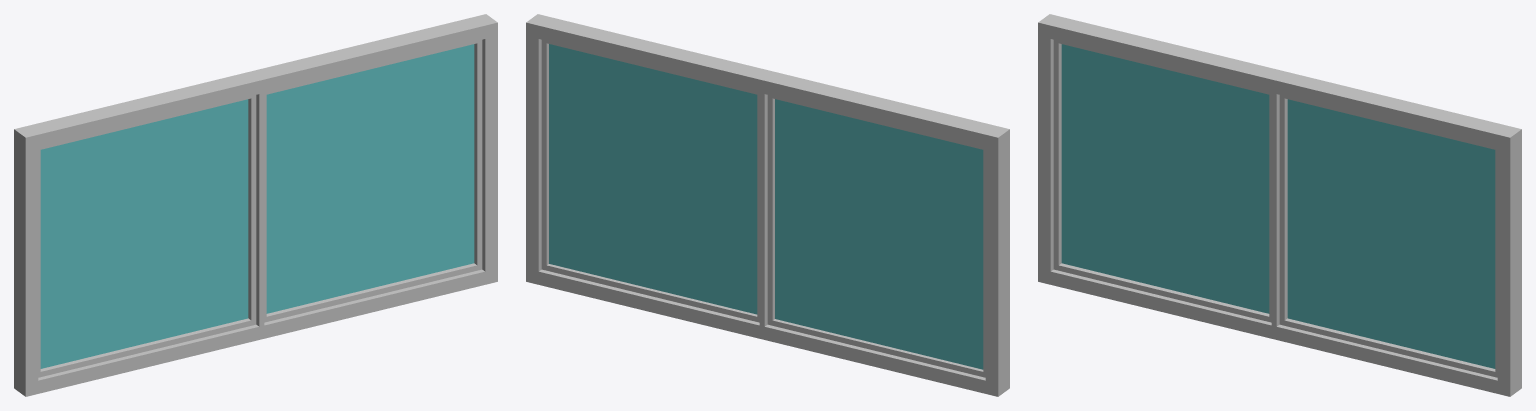
File: Window.fbx
The picture shows the model from 3 angles, left to right: view 1: azimuth 30°, elevation 25°; view 2: azimuth 150°, elevation 25°; view 3: azimuth 330°, elevation 25°; orthographic projection.
Visible parts, largest first — view 1: Window; view 2: Window; view 3: Window.
Part boxes in pixels (<box>): Window: <box>14,14,497,396</box>; Window: <box>526,14,1009,396</box>; Window: <box>1038,14,1521,396</box>.
Size of the model in its own units: 186 by 97.69 by 8.
